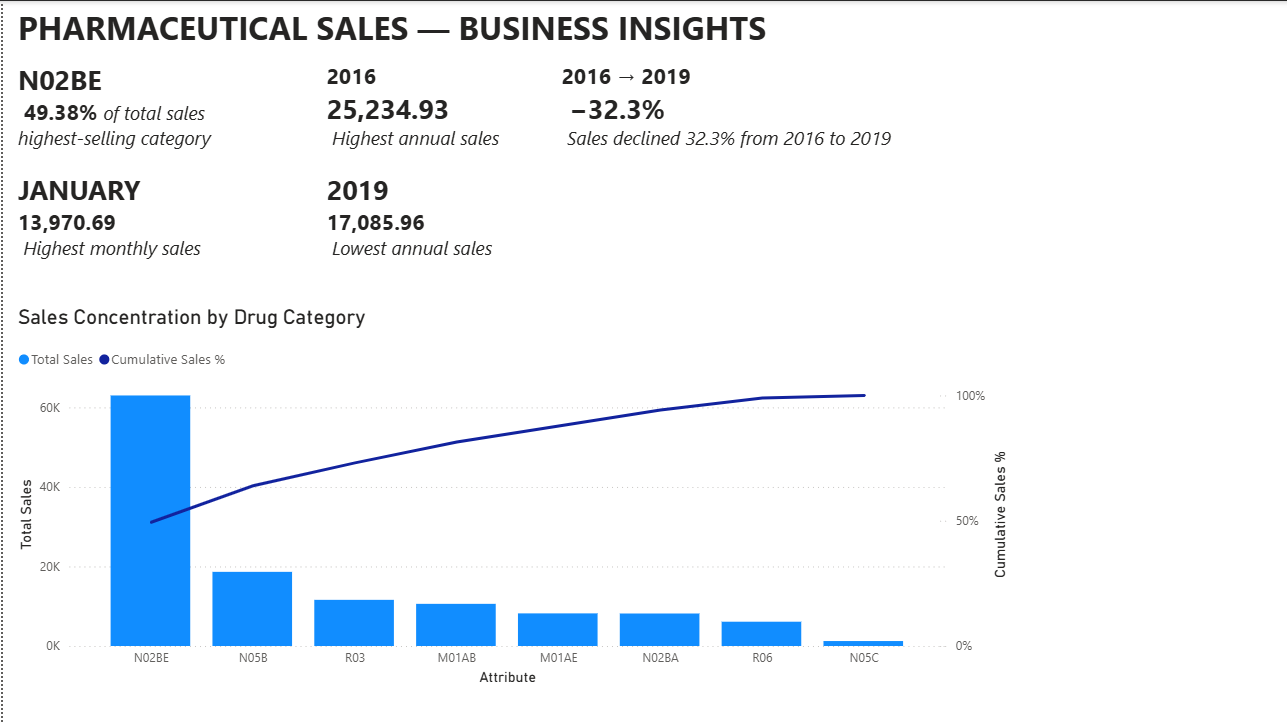

Layout of this report page (visuals, bound fields, positions):
{"tool":"powerbi","page":{"name":"Page 2","canvas":[1280,720],"ordinal":1},"visuals":[{"type":"textbox","box":[10,0,1270,54.3],"z":0},{"type":"textbox","box":[10,54.3,224.3,98.6],"z":1000},{"type":"textbox","box":[317.1,54.3,234.3,98.6],"z":2000},{"type":"textbox","box":[10,164.2,223.9,104.5],"z":3000},{"type":"textbox","box":[317.2,164.2,222.7,104.5],"z":4000},{"type":"textbox","box":[551.4,54.3,395.7,98.6],"z":5000},{"type":"lineClusteredColumnComboChart","title":"Sales Concentration by Drug Category","fields":{"Category":["salesdaily.Attribute"],"Y":["salesdaily.Total Sales"],"Y2":["salesdaily.Cumulative Sales %"]},"box":[10,302.3,995.2,383.1],"z":6000}]}

Visuals, with their boxes in screenshot pixels (x1, y1, x2, y2), scaled from the page's 1280x720 canvas onto the 1287x722 screenshot:
textbox: select_region(10, 0, 1286, 54)
textbox: select_region(10, 54, 236, 153)
textbox: select_region(319, 54, 554, 153)
textbox: select_region(10, 165, 235, 269)
textbox: select_region(319, 165, 543, 269)
textbox: select_region(554, 54, 952, 153)
"Sales Concentration by Drug Category" lineClusteredColumnComboChart: select_region(10, 303, 1011, 687)
